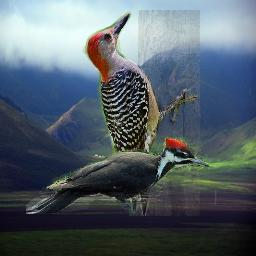Woodpecker: (79, 10, 200, 216), (26, 137, 209, 214)
